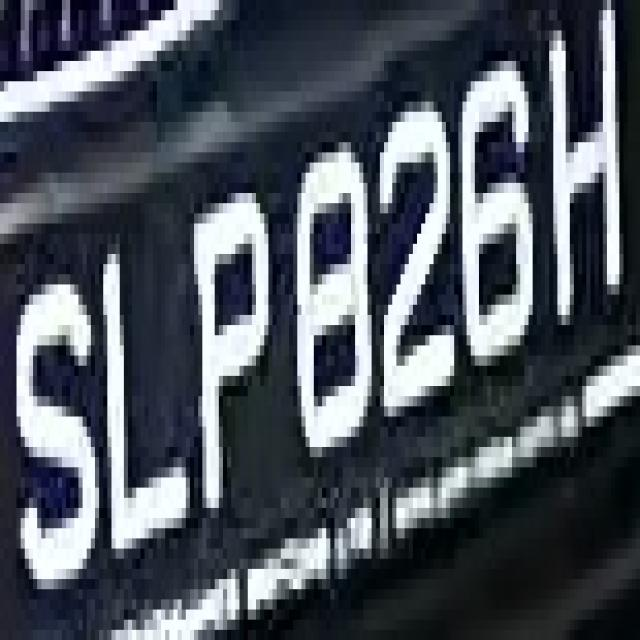2: (368, 61, 458, 467)
6: (450, 30, 541, 376)
8: (293, 101, 380, 478)
H: (541, 10, 636, 325)
L: (91, 224, 206, 558)
P: (186, 173, 272, 508)
S: (8, 244, 95, 599)
